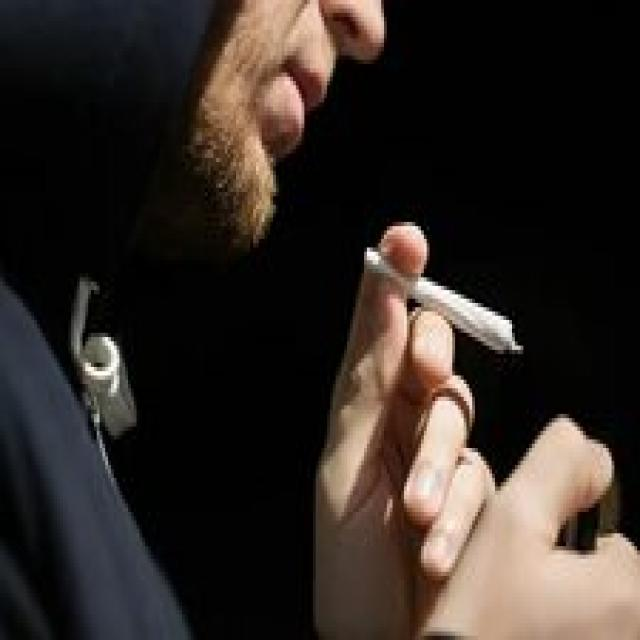smoke: (361, 239, 526, 354)
